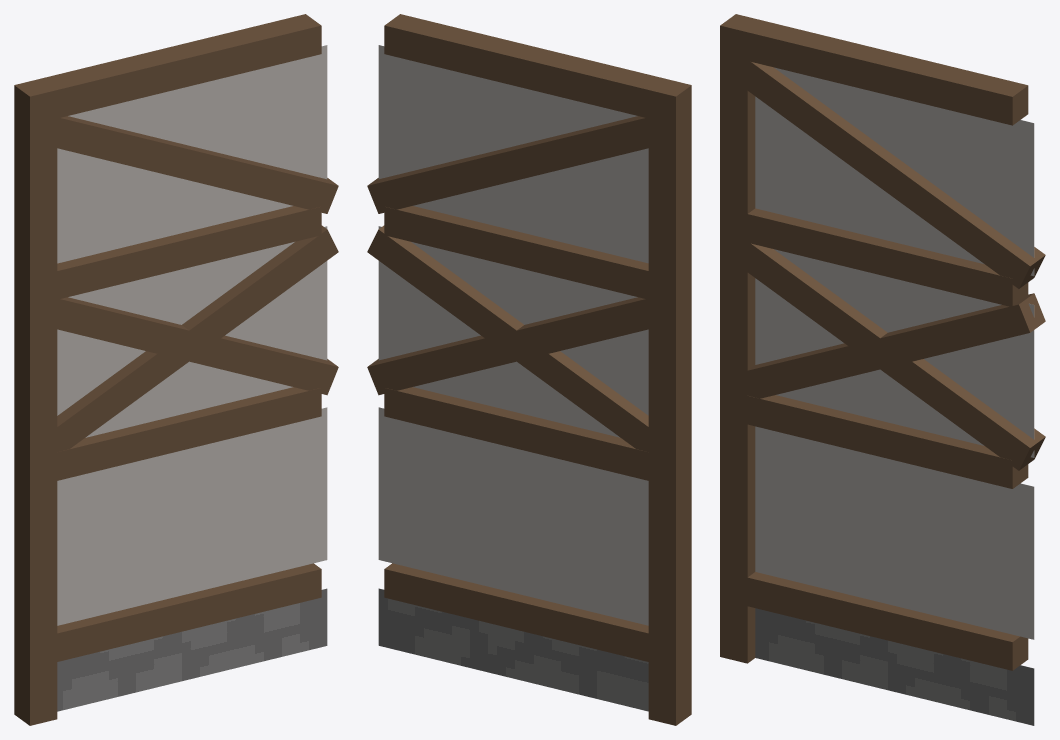
File: wall_3_0.gltf
3 views of the same model, side by side, from view 1: azimuth 30°, elevation 25°; view 2: azimuth 150°, elevation 25°; view 3: azimuth 330°, elevation 25° (orthographic).
Visible parts, largest first — view 1: cube (×22); view 2: cube (×22); view 3: cube (×22).
Boxes of the visible parts, x1,y1,x2,y2 form: cube (×22): (14, 14, 338, 725); cube (×22): (367, 14, 691, 725); cube (×22): (720, 14, 1045, 725).
Bounding box in the file's own units: 2.12 × 4.12 × 0.1875.
Materials: 1 (1 with a texture image).
